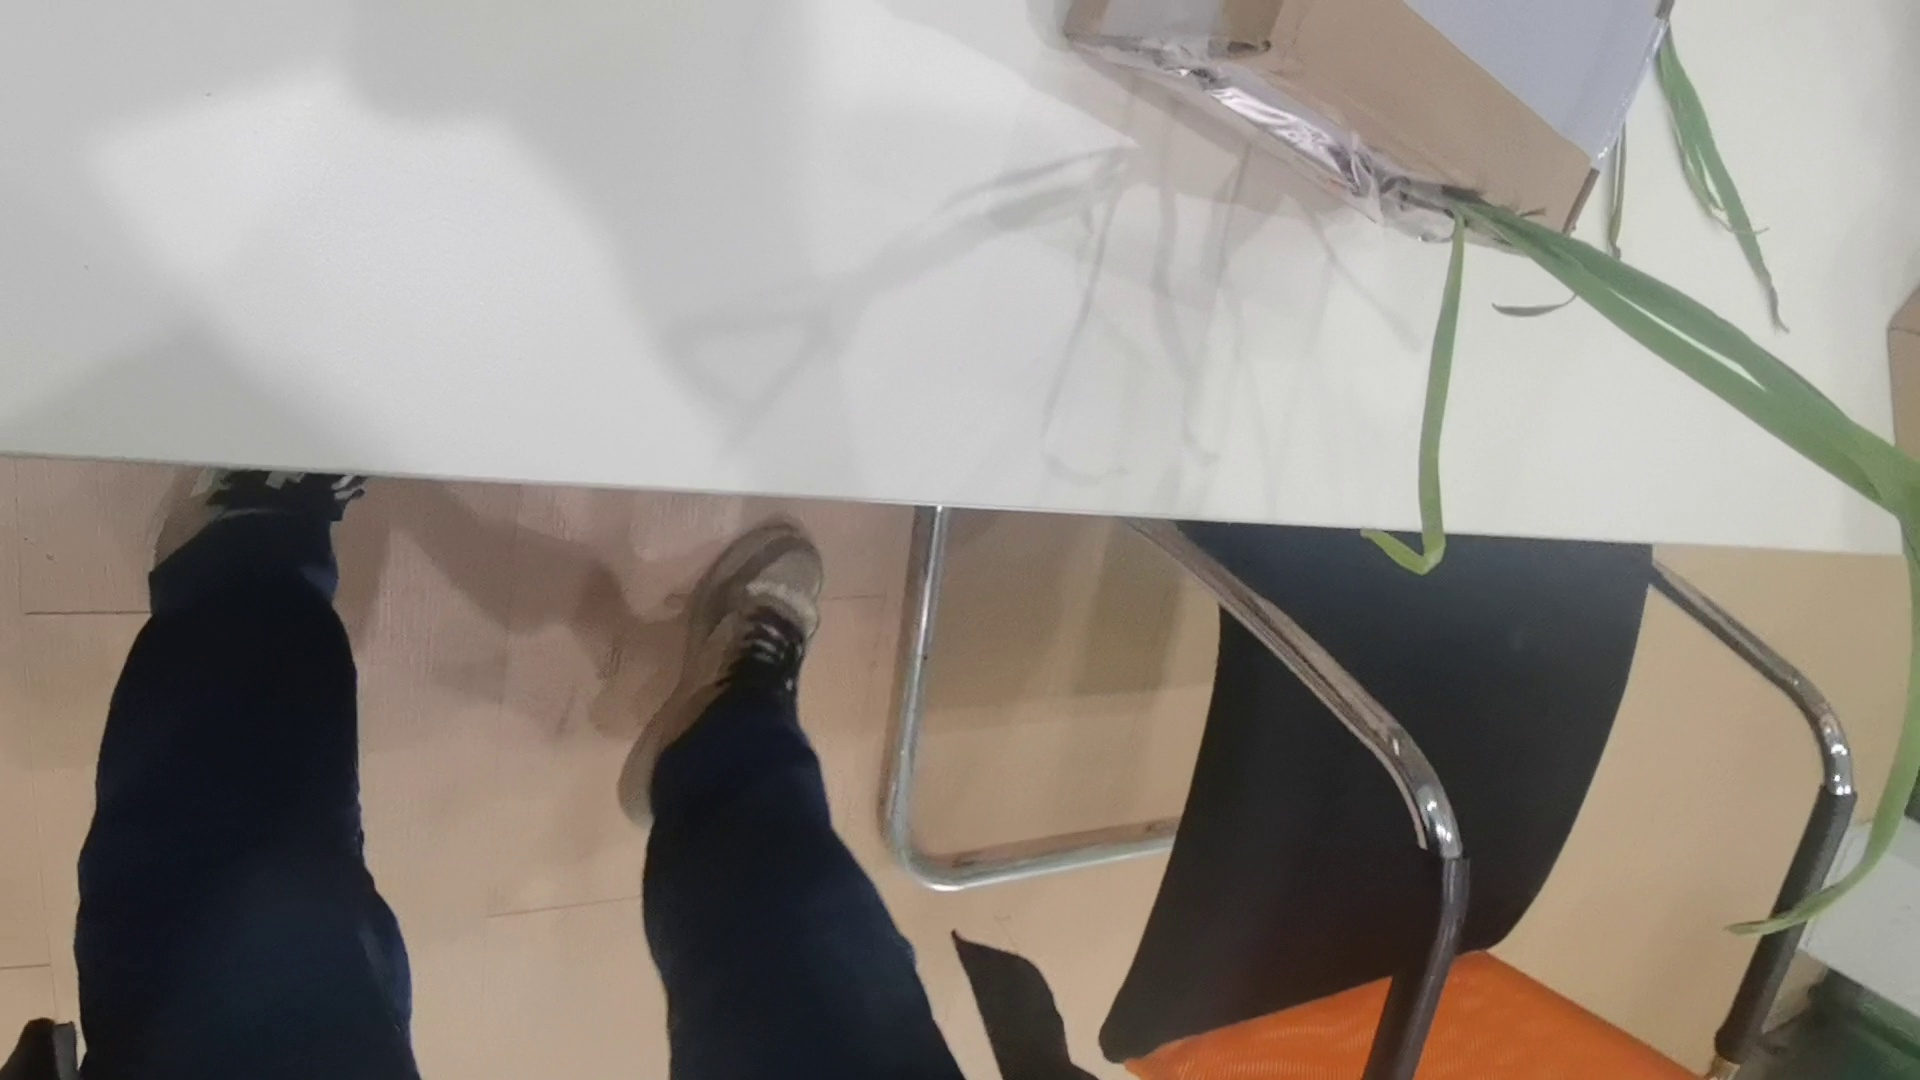chives: (1280, 181, 1920, 829), (1580, 3, 1920, 324)
